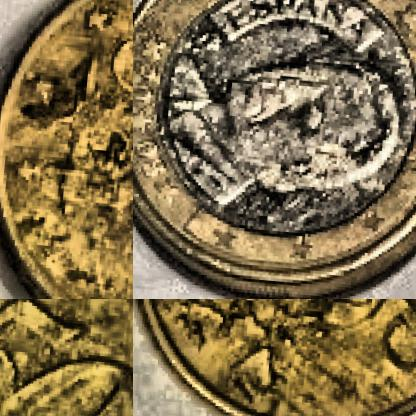coin: (133, 0, 415, 298), (0, 0, 132, 298), (133, 299, 415, 415), (0, 299, 132, 415)
